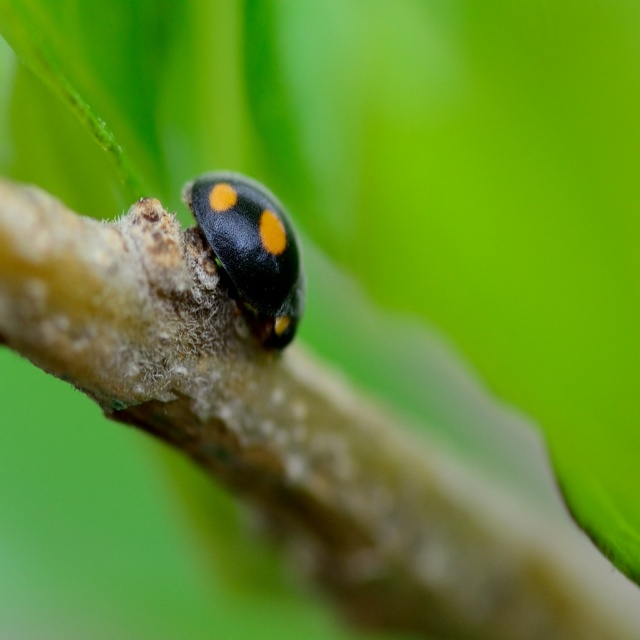Ladybug: (182, 170, 306, 349)
